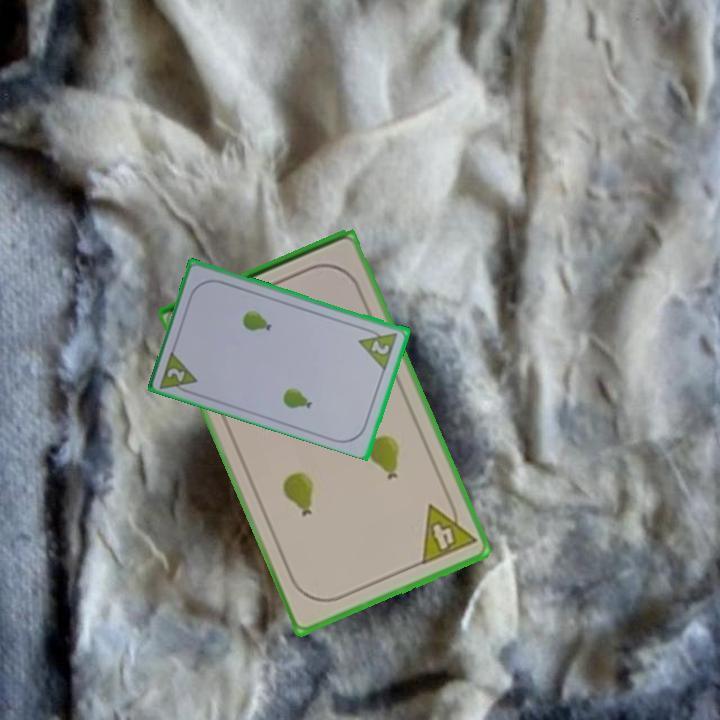2p: (156, 346, 202, 398), (368, 336, 393, 358)
4p: (417, 493, 480, 568)
